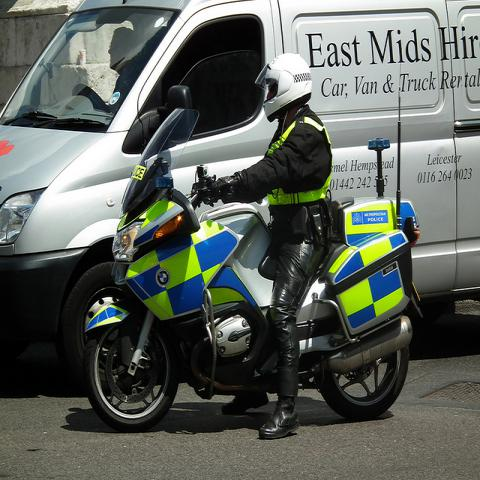motorcycle: (82, 56, 426, 437)
truck: (0, 1, 479, 399)
